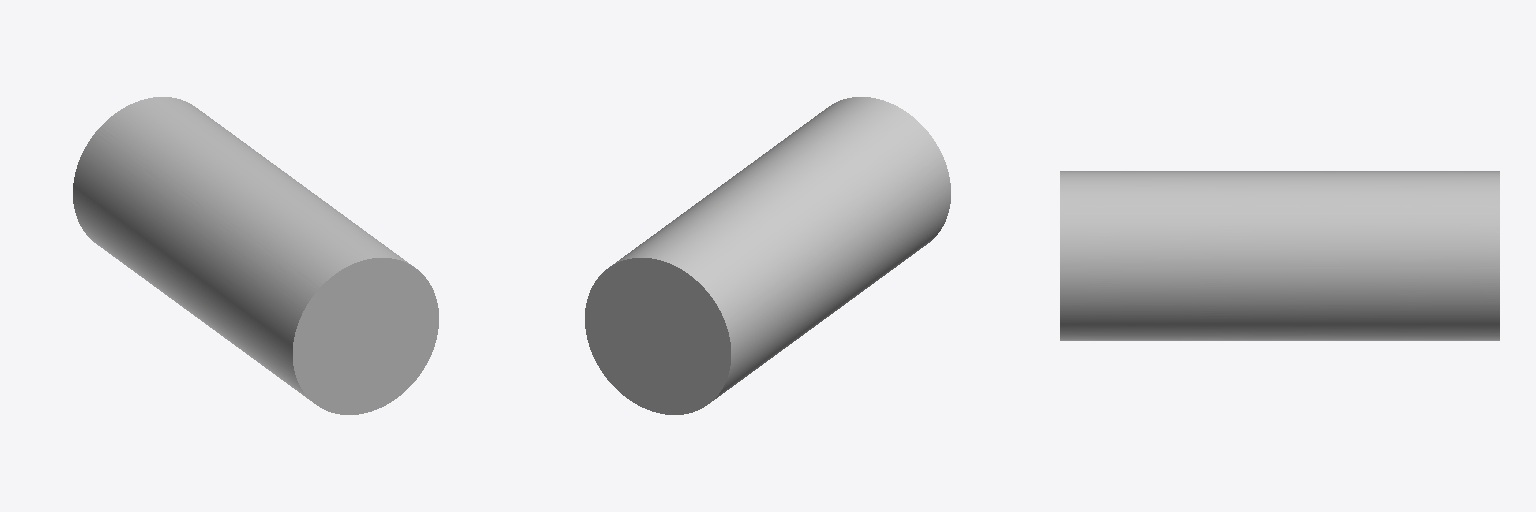
The model's file is slicing.obj.
3 renders of one model, left to right at view 1: azimuth 30°, elevation 25°; view 2: azimuth 150°, elevation 25°; view 3: azimuth 270°, elevation 25°, orthographic.
Bounding box in the file's own units: 76.98 × 76.98 × 200.